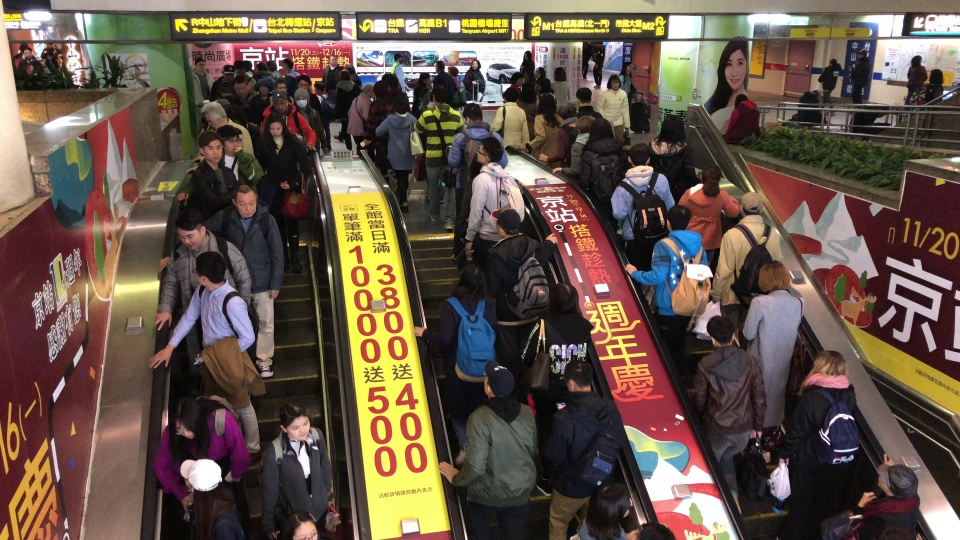person_head: (584, 479, 631, 533), (166, 396, 204, 442), (178, 456, 224, 494), (875, 461, 919, 500), (277, 401, 312, 445), (171, 206, 206, 249), (191, 249, 225, 291), (279, 507, 321, 540), (483, 358, 515, 400), (758, 259, 790, 294), (811, 349, 848, 379), (548, 281, 580, 315), (563, 359, 595, 393), (490, 205, 521, 240), (456, 261, 486, 297), (705, 315, 736, 349), (197, 128, 224, 167), (230, 182, 258, 218), (198, 101, 228, 130), (475, 136, 505, 164), (665, 204, 692, 235), (215, 125, 242, 156), (659, 113, 686, 143), (698, 161, 722, 192), (738, 190, 764, 218), (587, 118, 614, 144), (626, 140, 651, 168), (459, 102, 484, 129), (535, 91, 558, 118), (263, 112, 286, 137), (556, 96, 577, 122), (574, 114, 596, 136), (271, 90, 290, 113), (392, 89, 410, 113), (292, 87, 311, 109), (432, 82, 448, 105), (252, 78, 271, 97), (575, 86, 592, 107), (371, 80, 389, 99), (518, 84, 536, 103), (272, 76, 288, 96), (360, 80, 376, 98), (928, 67, 944, 85), (731, 92, 749, 108), (502, 87, 519, 103), (606, 73, 621, 90), (295, 74, 310, 91), (552, 66, 567, 82), (221, 62, 234, 80), (386, 73, 399, 90), (20, 45, 34, 60), (232, 61, 246, 76), (254, 60, 270, 73), (418, 70, 431, 86), (620, 60, 633, 76), (510, 70, 523, 86), (281, 57, 294, 72), (532, 66, 546, 79), (194, 57, 206, 72), (338, 68, 351, 81), (265, 59, 277, 73), (241, 58, 253, 72), (393, 51, 405, 65), (909, 55, 923, 67), (312, 81, 324, 94), (447, 65, 459, 77), (328, 53, 339, 66), (434, 60, 445, 73), (855, 48, 868, 58), (345, 63, 356, 74), (470, 59, 481, 70), (43, 51, 55, 61), (810, 88, 822, 98), (828, 57, 837, 68), (523, 49, 531, 60), (595, 40, 603, 47)
person_vbox: (148, 251, 267, 467), (157, 182, 285, 378), (436, 360, 539, 540), (154, 209, 252, 393), (413, 264, 501, 465), (682, 313, 767, 516), (623, 203, 713, 377), (522, 281, 594, 497), (540, 358, 623, 540), (485, 205, 558, 404), (152, 393, 252, 536), (739, 259, 807, 464), (778, 348, 859, 514), (708, 190, 786, 351), (254, 400, 341, 540), (447, 101, 508, 260), (254, 113, 313, 272), (608, 142, 676, 272), (821, 452, 920, 540), (465, 137, 525, 261), (413, 85, 464, 230), (676, 162, 739, 268), (177, 454, 248, 540), (374, 91, 424, 213), (185, 124, 265, 200), (578, 118, 627, 218), (647, 115, 698, 206), (191, 131, 240, 219), (513, 93, 563, 170), (259, 90, 316, 152), (362, 79, 395, 178), (199, 101, 254, 159), (288, 74, 331, 147), (551, 114, 597, 177), (595, 73, 631, 149), (539, 100, 579, 168), (490, 86, 531, 149), (292, 88, 331, 153), (334, 68, 362, 153), (331, 64, 361, 143), (721, 92, 762, 145), (346, 82, 374, 156), (189, 57, 214, 136), (312, 80, 338, 152), (908, 67, 944, 115), (616, 59, 643, 121), (847, 48, 872, 113), (817, 58, 842, 116), (796, 88, 831, 127), (902, 53, 928, 105), (516, 86, 540, 141), (321, 54, 345, 106), (432, 60, 458, 105), (463, 58, 486, 104), (410, 71, 432, 119), (551, 66, 573, 111), (445, 65, 466, 112), (574, 87, 603, 121), (208, 64, 236, 99), (233, 60, 259, 97), (16, 47, 45, 80), (389, 51, 410, 96), (279, 58, 301, 98), (519, 47, 536, 92), (591, 39, 606, 88), (385, 76, 409, 104), (253, 78, 274, 109), (532, 66, 553, 96), (41, 51, 61, 76)
